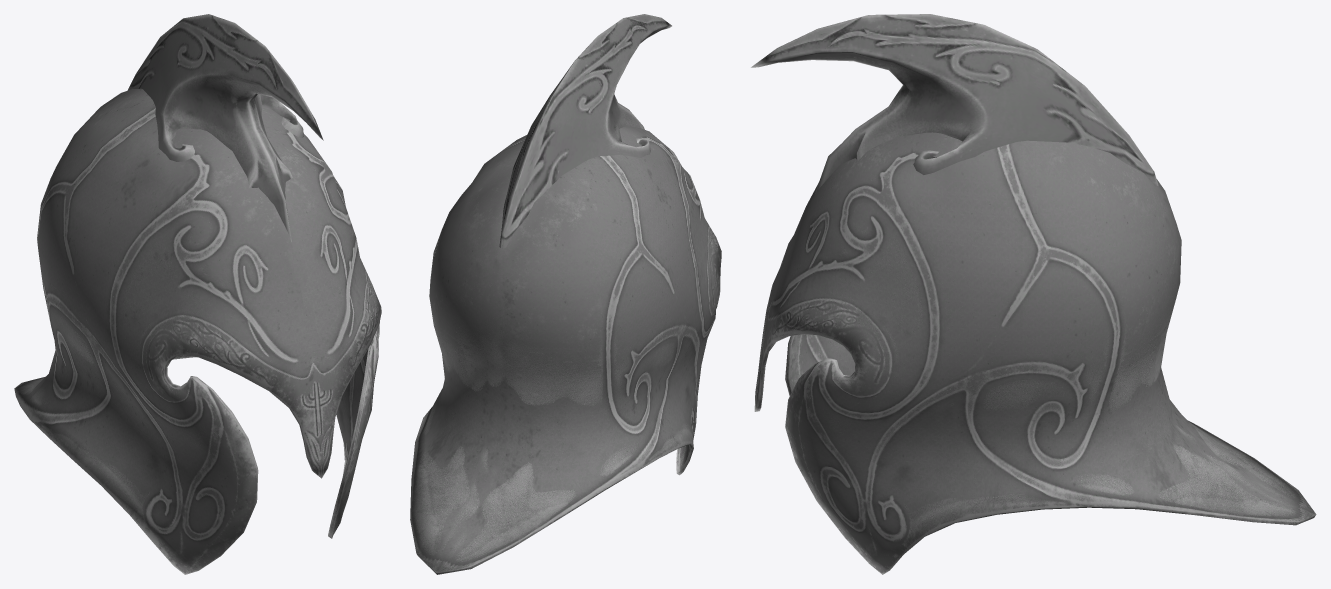
The model's file is rivendell_helmet_infantry_tier2_silver.fbx.
The picture shows the model from 3 angles, left to right: view 1: azimuth 30°, elevation 25°; view 2: azimuth 150°, elevation 25°; view 3: azimuth 270°, elevation 25°; orthographic projection. The views are drawn at different scales.
Parts seen in each view (by area): view 1: rivendell_helmet_infantry_tier2_silver.1, rivendell_helmet_infantry_tier2_silver.0; view 2: rivendell_helmet_infantry_tier2_silver.1, rivendell_helmet_infantry_tier2_silver.0; view 3: rivendell_helmet_infantry_tier2_silver.1, rivendell_helmet_infantry_tier2_silver.0.
Part boxes in pixels (x1,y1,x2,y2): rivendell_helmet_infantry_tier2_silver.1: [14, 88, 381, 574]; rivendell_helmet_infantry_tier2_silver.0: [127, 14, 323, 242]; rivendell_helmet_infantry_tier2_silver.1: [410, 125, 721, 574]; rivendell_helmet_infantry_tier2_silver.0: [499, 14, 671, 248]; rivendell_helmet_infantry_tier2_silver.1: [754, 132, 1316, 574]; rivendell_helmet_infantry_tier2_silver.0: [751, 14, 1158, 193].
Bounding box in the file's own units: 0.2002 × 0.3681 × 0.3765.
Materials: 2 (2 with a texture image).
